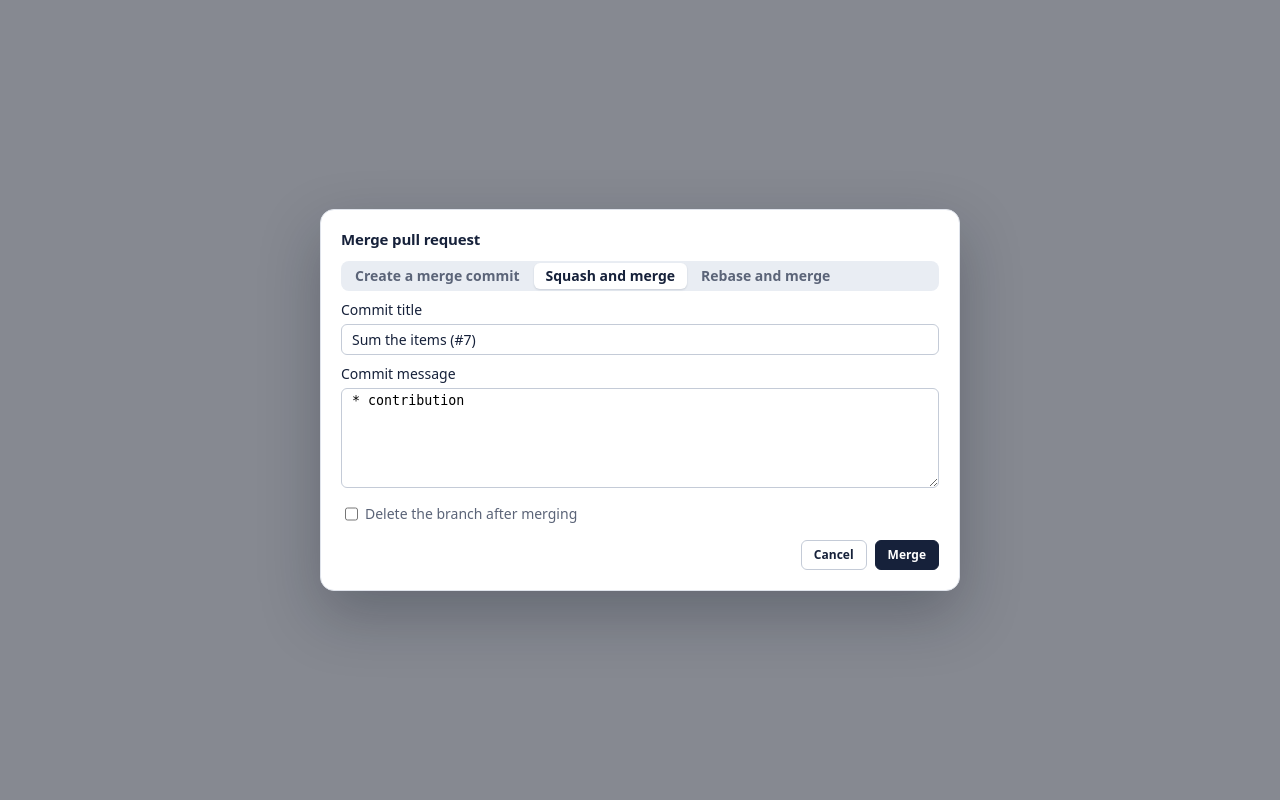
Test: MergeDialog › prefills the commit text of each method and hides it for rebase
Click the tab "Create a merge commit": (437, 276) top-left (343, 263), bottom-right (532, 289)
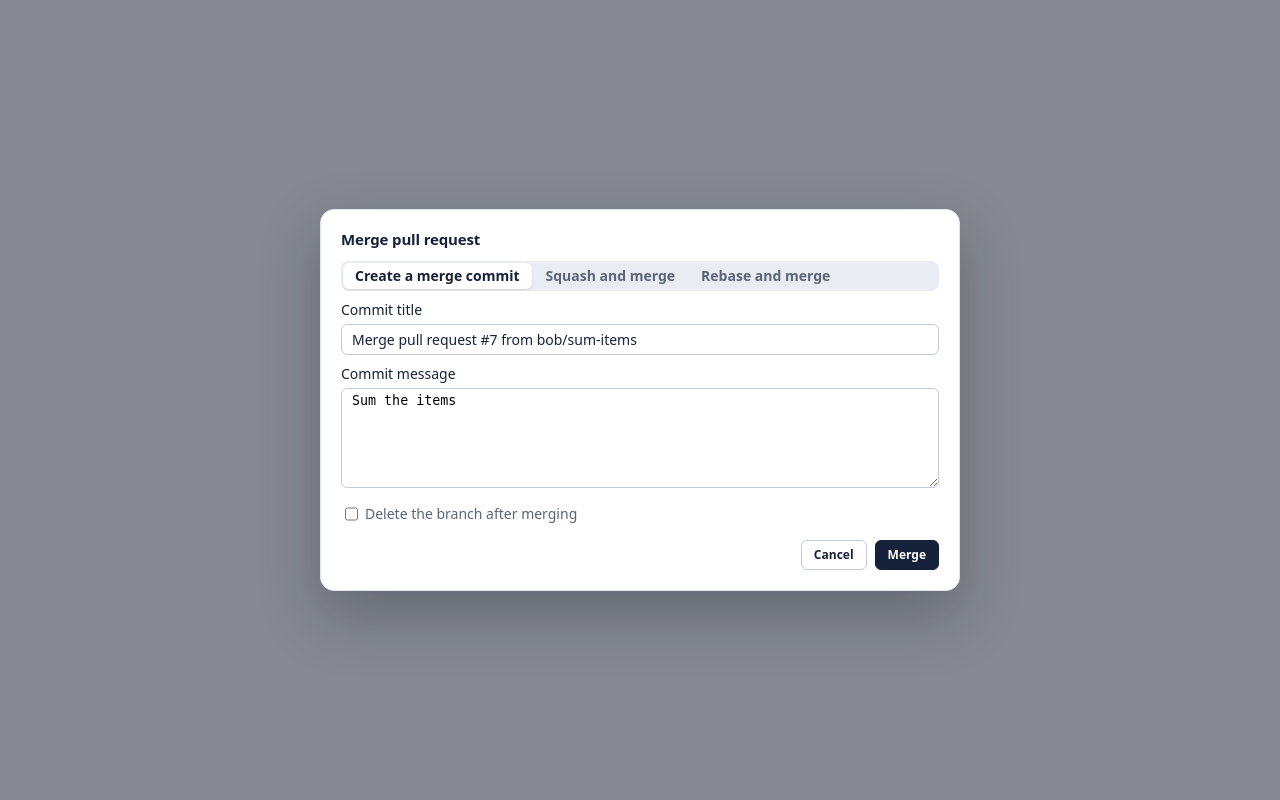
Expected: the field labelled "Commit title" holds "Merge pull request #7 from bob/sum-items", top-left (341, 324), bottom-right (939, 355)
Expected: the text box labelled "Commit message" holds "Sum the items", top-left (341, 388), bottom-right (939, 488)
Click the tab "Rebase and merge": (766, 276) top-left (689, 263), bottom-right (842, 289)
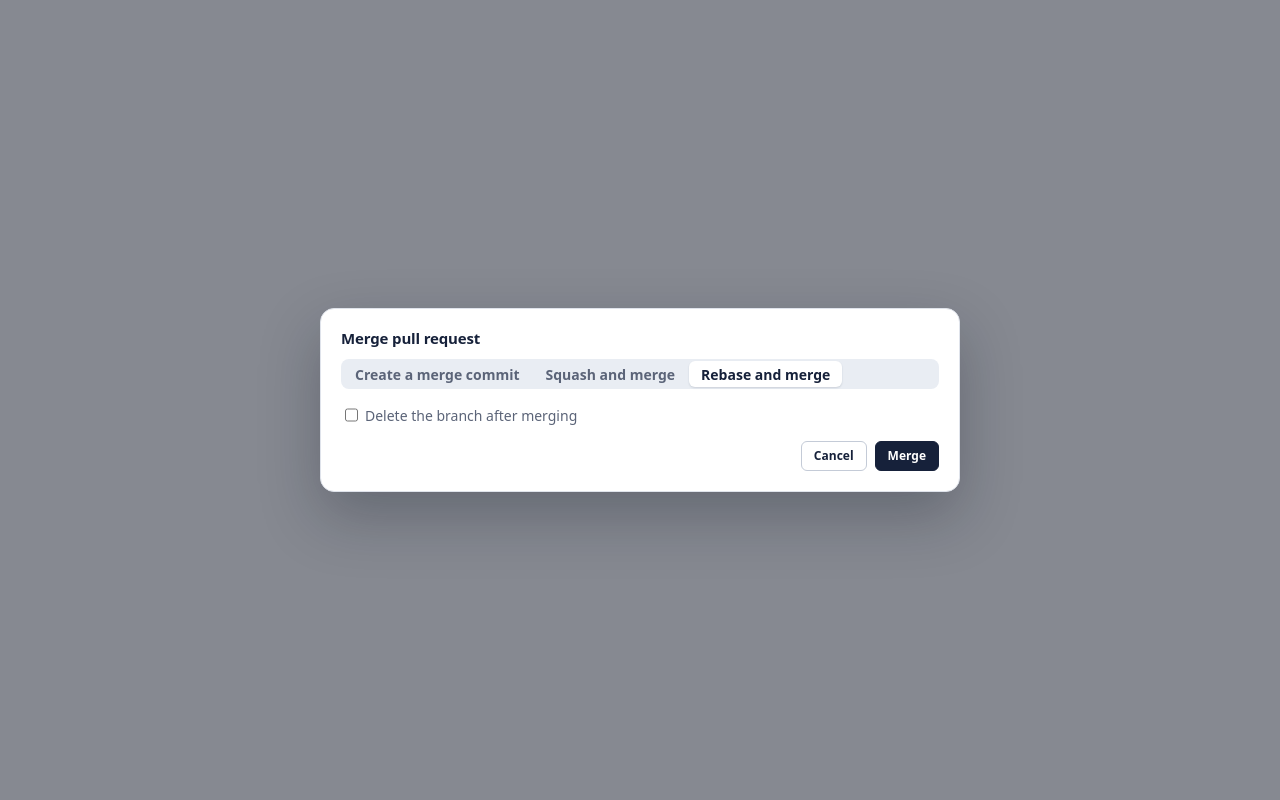
Expected: the button "Merge" is enabled, top-left (875, 441), bottom-right (939, 471)
Expected: the label labelled "Commit title" is gone
